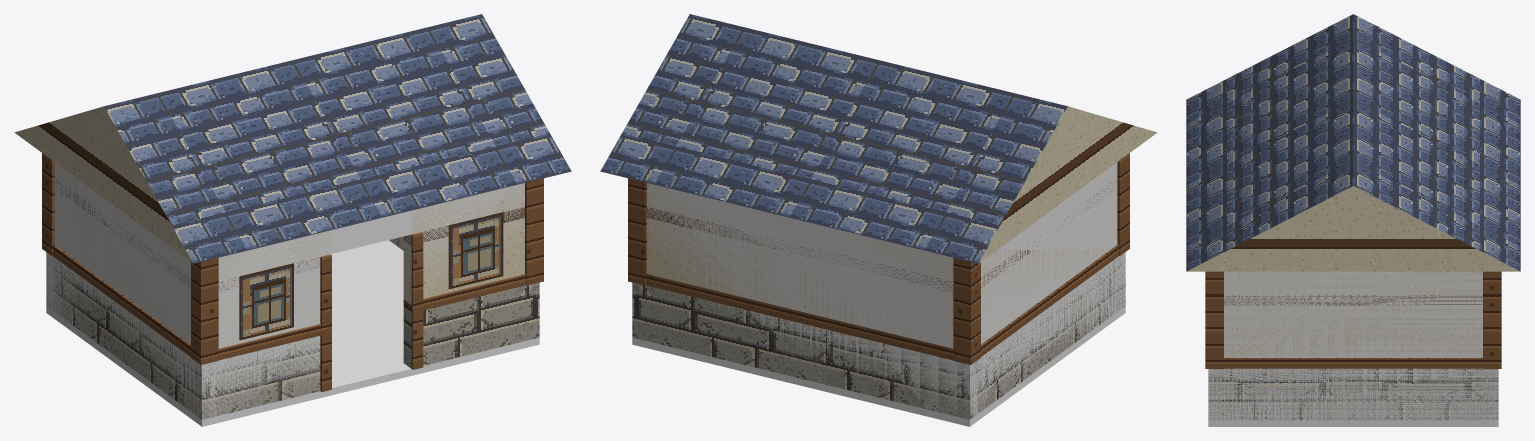
Rendered from cottage_m17.glb.
3 views of the same model, side by side, from view 1: azimuth 30°, elevation 25°; view 2: azimuth 150°, elevation 25°; view 3: azimuth 270°, elevation 25° (orthographic). The views are drawn at different scales.
Parts seen in each view (by area): view 1: roof, col_wall_west, col_floor, col_wall_south_w, wall_west_low, wall_south_e_low, wall_south_e_high, wall_south_w_low, col_wall_south_e, window_south_e, window_south_w, wall_west_high (+10 smaller); view 2: roof, col_wall_north, col_wall_west, wall_north_low, wall_north_high, wall_west_low, frame_sill_north, col_floor, frame_post_nw, wall_west_high, frame_post_ne, frame_sill_west (+1 smaller); view 3: roof, col_wall_east, wall_east_high, wall_east_low, frame_sill_east, col_floor, frame_post_ne, frame_post_se, col_wall_south_e.
Boxes of the visible parts, x1=… form: roof: x1=14, y1=14, x2=571, y2=263; col_wall_west: x1=46, y1=162, x2=215, y2=426; col_floor: x1=46, y1=240, x2=539, y2=426; col_wall_south_w: x1=194, y1=230, x2=330, y2=426; wall_west_low: x1=46, y1=259, x2=215, y2=419; wall_south_e_low: x1=403, y1=282, x2=539, y2=368; wall_south_e_high: x1=403, y1=183, x2=524, y2=311; wall_south_w_low: x1=194, y1=336, x2=320, y2=419; col_wall_south_e: x1=403, y1=183, x2=538, y2=375; window_south_e: x1=448, y1=212, x2=503, y2=289; window_south_w: x1=239, y1=263, x2=293, y2=340; wall_west_high: x1=54, y1=164, x2=190, y2=339; roof: x1=600, y1=14, x2=1157, y2=263; col_wall_north: x1=639, y1=183, x2=977, y2=426; col_wall_west: x1=956, y1=162, x2=1125, y2=426; wall_north_low: x1=632, y1=283, x2=977, y2=419; wall_north_high: x1=647, y1=183, x2=953, y2=347; wall_west_low: x1=959, y1=253, x2=1125, y2=419; frame_sill_north: x1=646, y1=274, x2=953, y2=360; col_floor: x1=632, y1=306, x2=1125, y2=426; frame_post_nw: x1=953, y1=257, x2=980, y2=364; wall_west_high: x1=981, y1=172, x2=1117, y2=341; frame_post_ne: x1=628, y1=178, x2=646, y2=285; frame_sill_west: x1=981, y1=245, x2=1119, y2=356; roof: x1=1186, y1=14, x2=1520, y2=271; col_wall_east: x1=1208, y1=271, x2=1498, y2=426; wall_east_high: x1=1224, y1=271, x2=1482, y2=357; wall_east_low: x1=1208, y1=368, x2=1498, y2=420; frame_sill_east: x1=1224, y1=358, x2=1482, y2=368; col_floor: x1=1208, y1=420, x2=1498, y2=426; frame_post_ne: x1=1483, y1=271, x2=1501, y2=368; frame_post_se: x1=1205, y1=271, x2=1223, y2=368; col_wall_south_e: x1=1208, y1=369, x2=1222, y2=426.
Bounding box in the file's own units: 5.6 × 3.8 × 4.6.
Materials: 6 (6 with a texture image).
